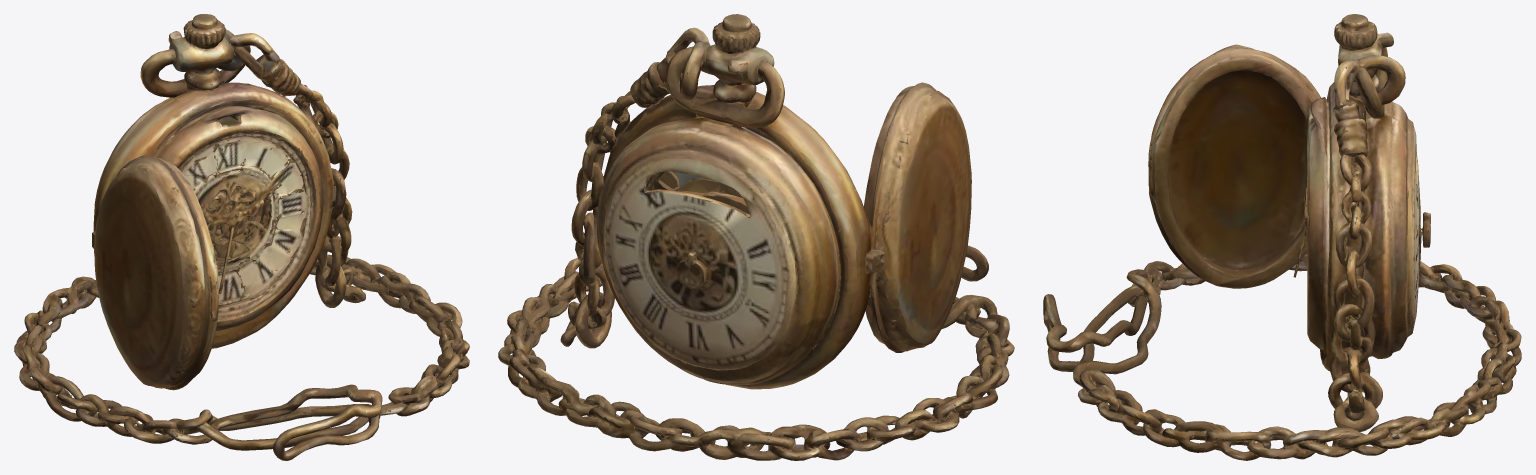
File: token-watch.glb
3 renders of one model, left to right at view 1: azimuth 30°, elevation 25°; view 2: azimuth 150°, elevation 25°; view 3: azimuth 270°, elevation 25°, orthographic. The views are drawn at different scales.
Parts seen in each view (by area): view 1: geometry_0; view 2: geometry_0; view 3: geometry_0.
Boxes of the visible parts, x1,y1,x2,y2 form: geometry_0: [14, 14, 469, 460]; geometry_0: [498, 14, 1014, 460]; geometry_0: [1043, 14, 1521, 460].
Size of the model in its own units: 0.0942 by 0.0749 by 0.0942.
1 material, 1 textured.
